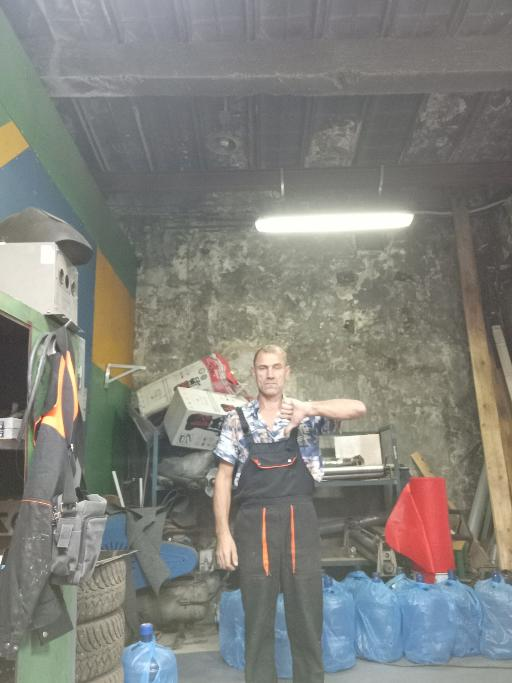dislike: (278, 395, 306, 438)
no_gesture: (214, 536, 240, 573)
